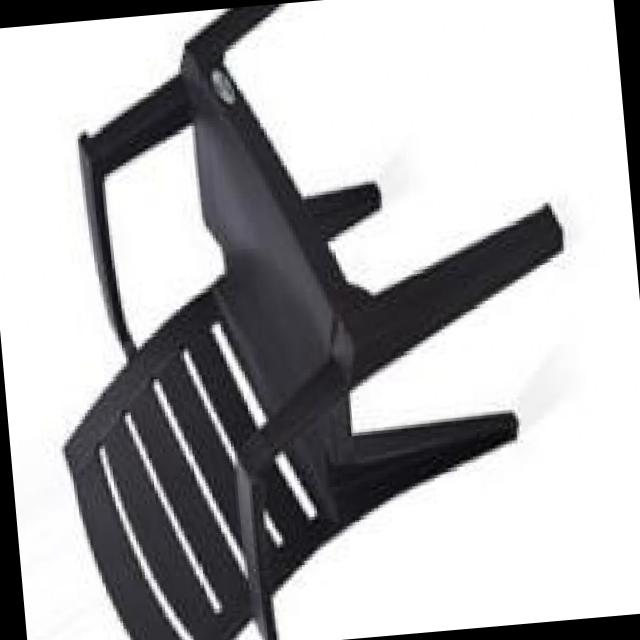Chair: (24, 0, 595, 640)
